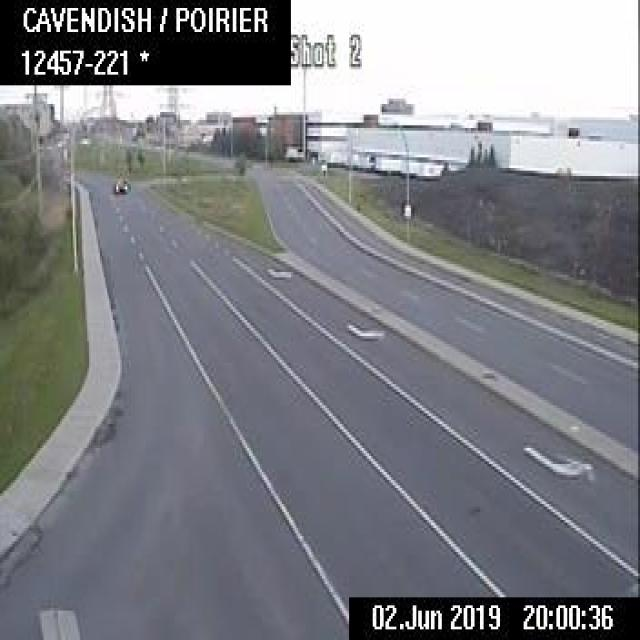vehicle: (111, 176, 128, 192)
